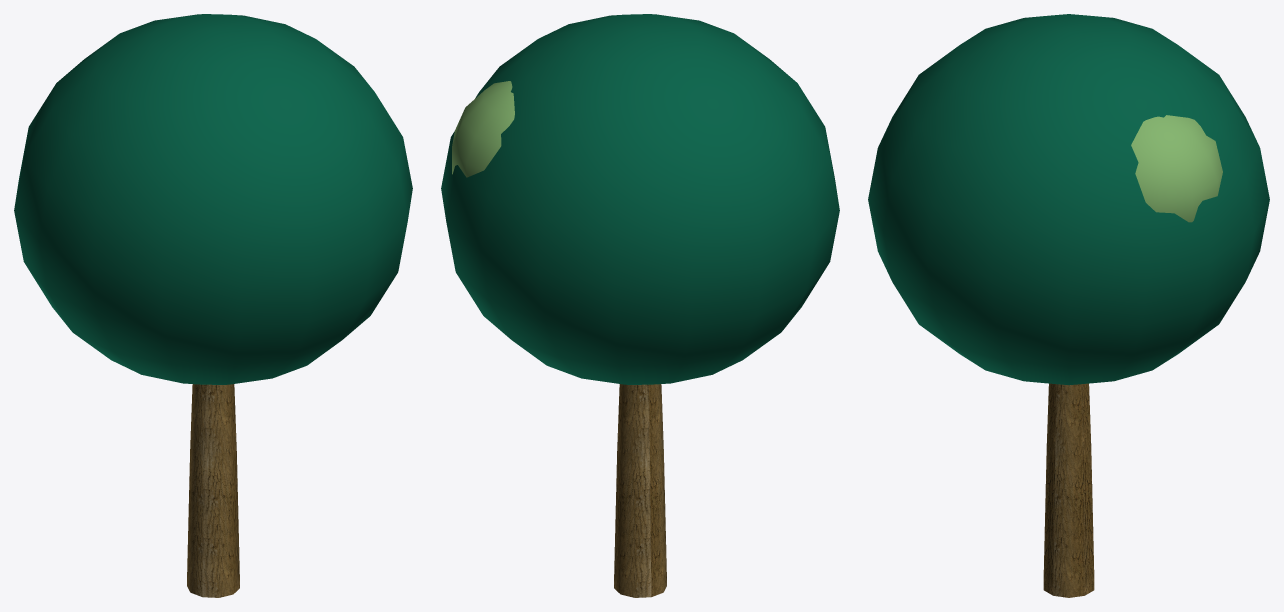
Rendered from pohon-hias.glb.
3 views of the same model, side by side, from view 1: azimuth 30°, elevation 25°; view 2: azimuth 150°, elevation 25°; view 3: azimuth 270°, elevation 25° (orthographic).
Visible parts, largest first — view 1: Tajuk, Batang; view 2: Tajuk, Batang, DaunMuda; view 3: Tajuk, Batang, DaunMuda.
Part boxes in pixels (x1=…): Tajuk: x1=14, y1=14, x2=412, y2=384; Batang: x1=187, y1=384, x2=239, y2=597; Tajuk: x1=441, y1=14, x2=839, y2=384; Batang: x1=614, y1=384, x2=666, y2=597; DaunMuda: x1=452, y1=81, x2=514, y2=177; Tajuk: x1=868, y1=14, x2=1269, y2=385; Batang: x1=1043, y1=383, x2=1094, y2=597; DaunMuda: x1=1131, y1=115, x2=1222, y2=222.
Size of the model in its own units: 2.4 by 3.65 by 2.4.
Materials: 3 (1 with a texture image).
